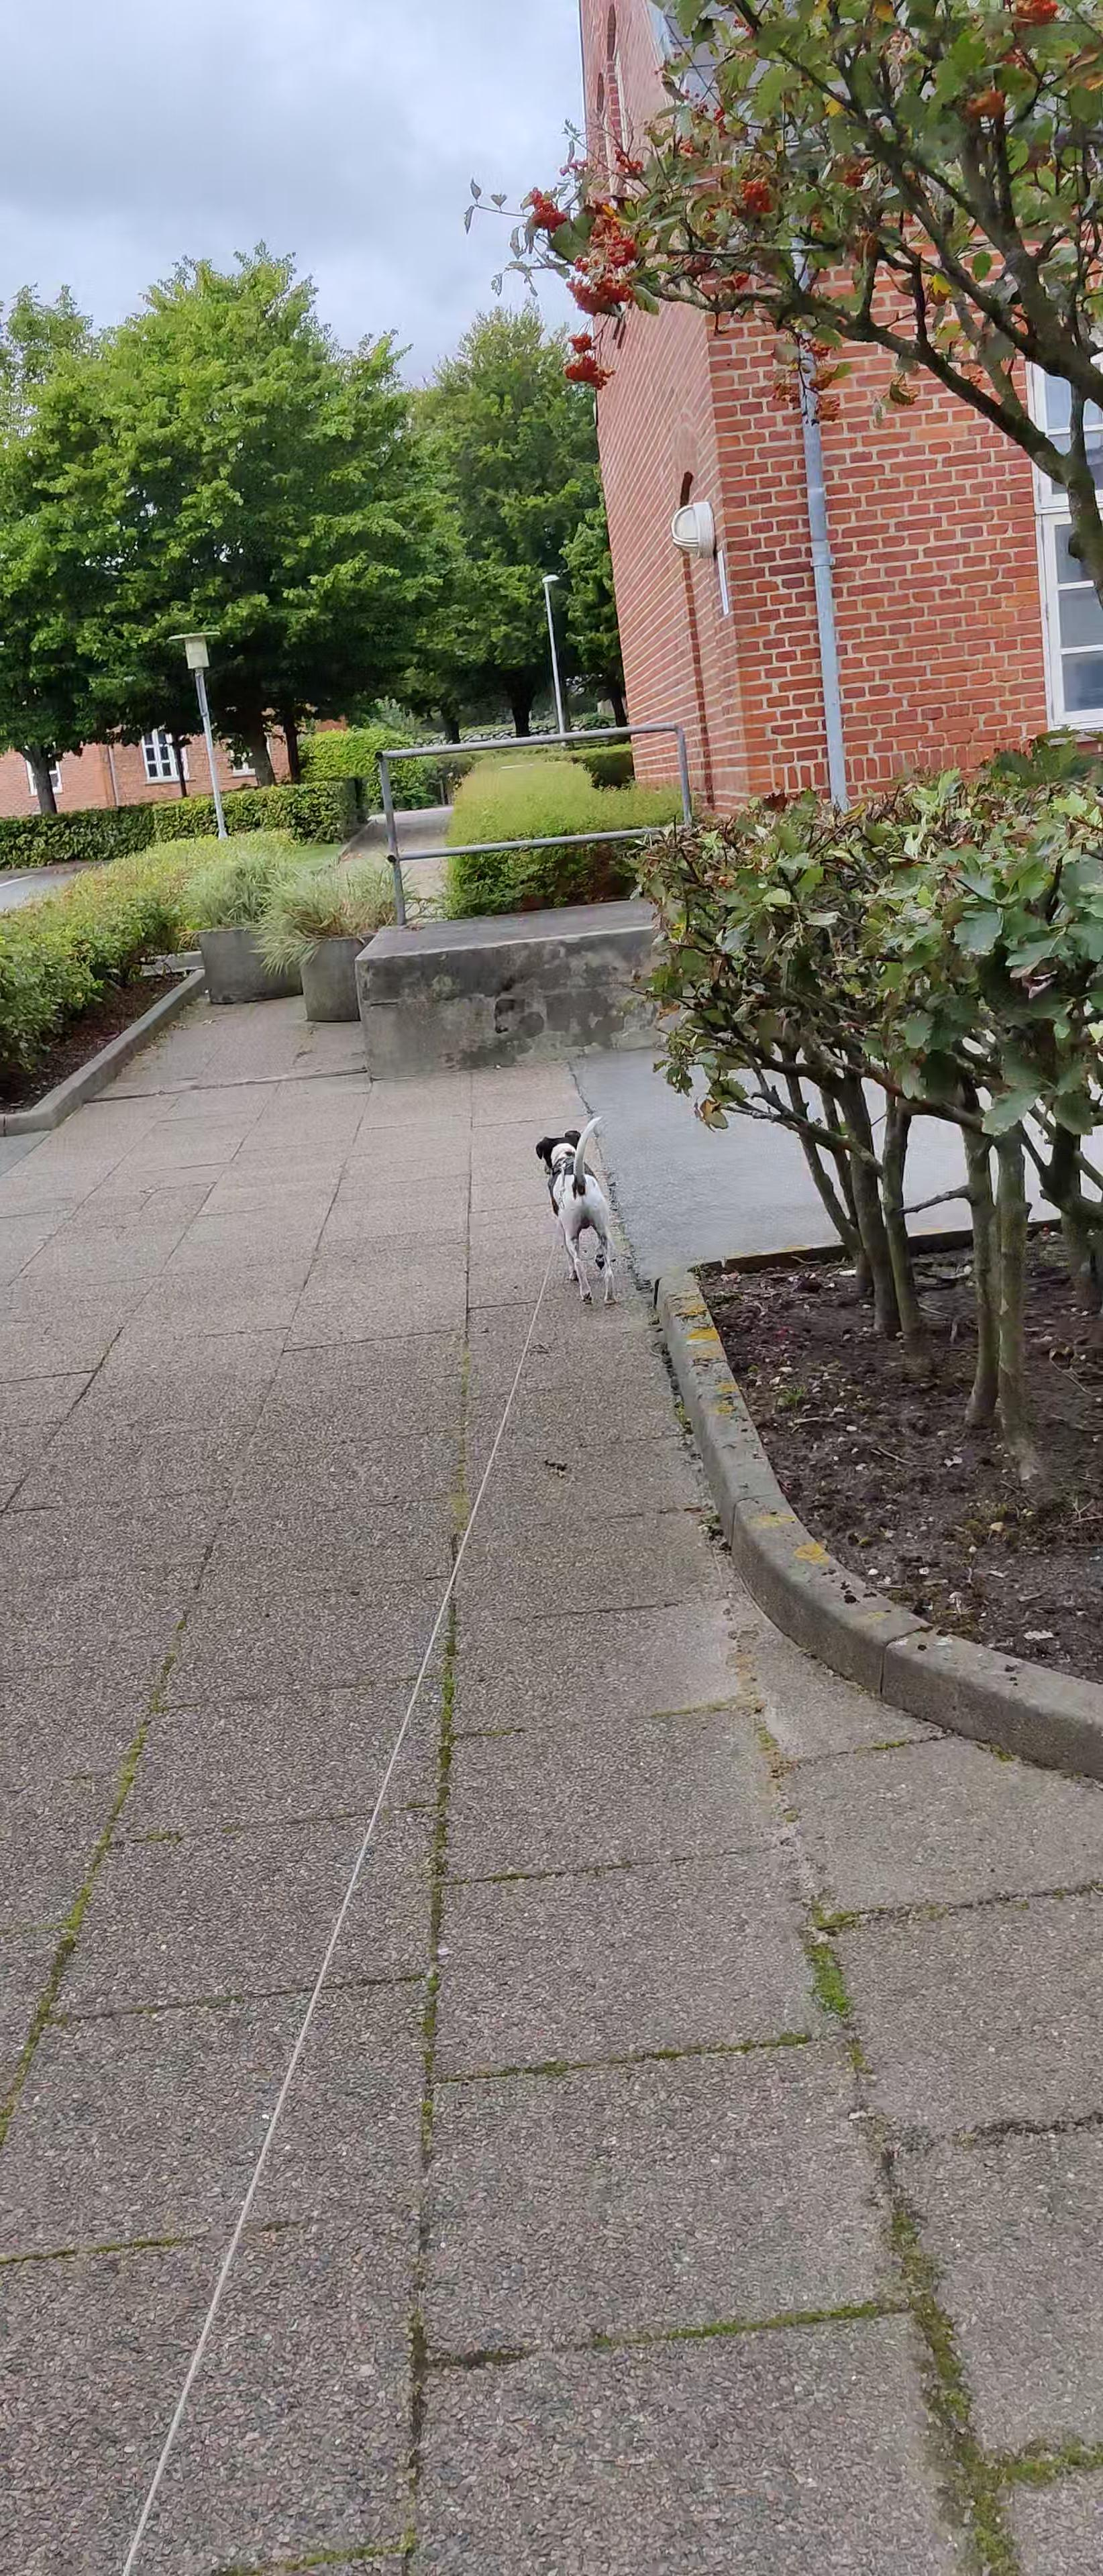Dog: (519, 1104, 628, 1309)
